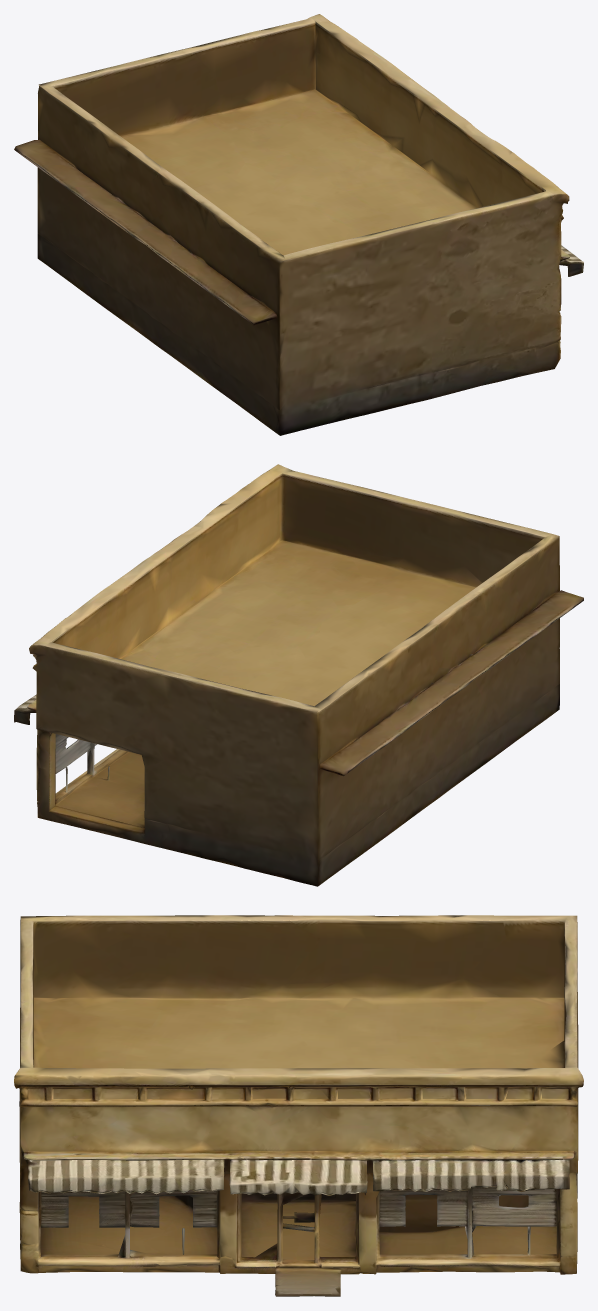
File: bld_pawn_shop.glb
3 views of the same model, one above another, from view 1: azimuth 30°, elevation 25°; view 2: azimuth 150°, elevation 25°; view 3: azimuth 270°, elevation 25° (orthographic). The views are drawn at different scales.
Parts seen in each view (by area): view 1: tripo_node_867c7707-ba70-4dd9-86fb-788e045eb353; view 2: tripo_node_867c7707-ba70-4dd9-86fb-788e045eb353; view 3: tripo_node_867c7707-ba70-4dd9-86fb-788e045eb353.
Boxes of the visible parts, box(x1,y1,x2,y2) form: tripo_node_867c7707-ba70-4dd9-86fb-788e045eb353: box(14, 14, 583, 435); tripo_node_867c7707-ba70-4dd9-86fb-788e045eb353: box(14, 464, 583, 886); tripo_node_867c7707-ba70-4dd9-86fb-788e045eb353: box(14, 915, 583, 1296).
Bounding box in the file's own units: 0.79 × 0.3858 × 0.9802.
Materials: 1 (1 with a texture image).
